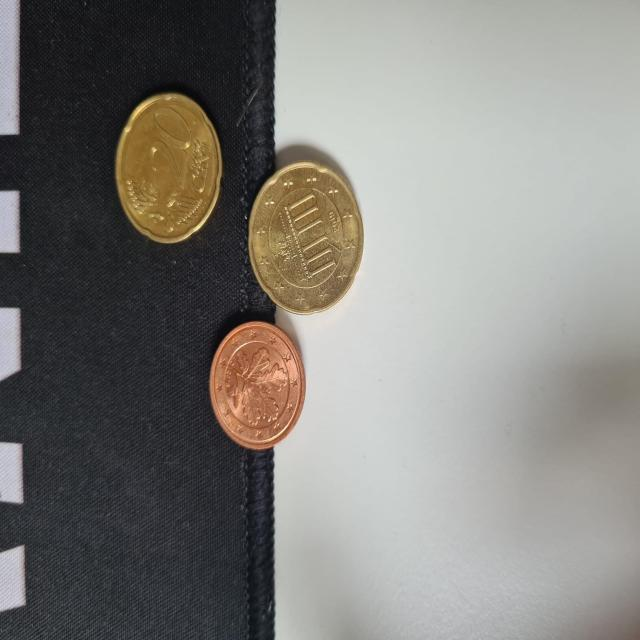20c: (242, 151, 368, 323), (107, 81, 231, 254)
2c: (205, 318, 307, 450)
